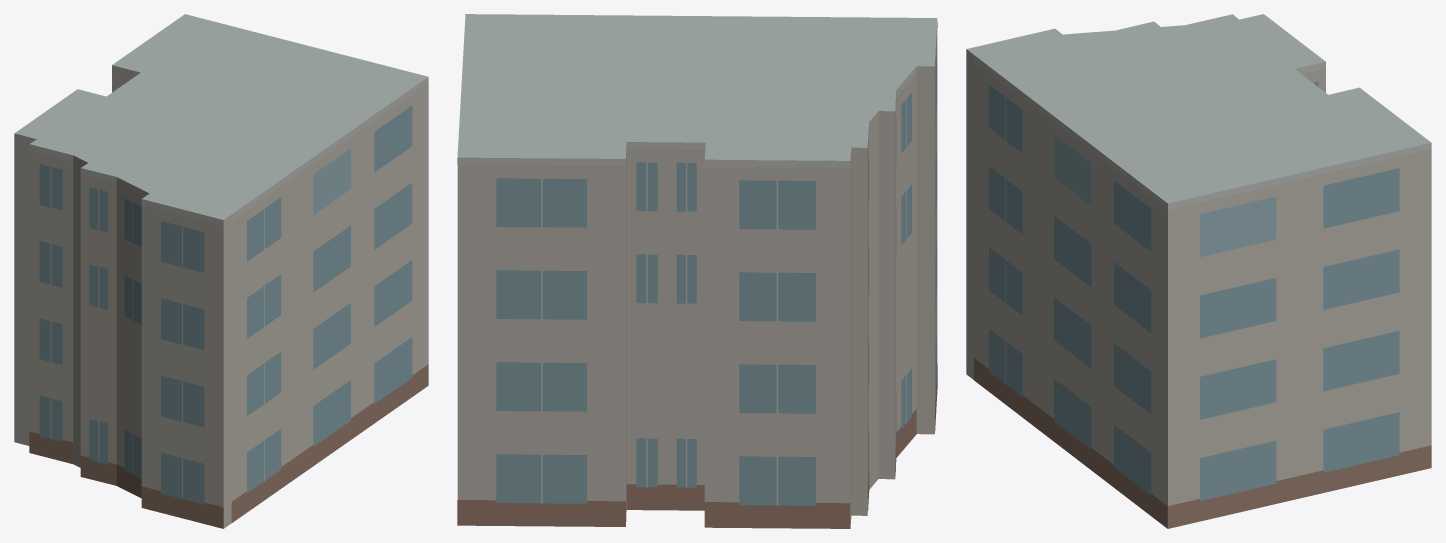
File: survey-upis-32745863.glb
The picture shows the model from 3 angles, left to right: view 1: azimuth 30°, elevation 25°; view 2: azimuth 150°, elevation 25°; view 3: azimuth 270°, elevation 25°; orthographic projection. The views are drawn at different scales.
Parts seen in each view (by area): view 1: survey-upis-32745863.tmp; view 2: survey-upis-32745863.tmp; view 3: survey-upis-32745863.tmp.
Part boxes in pixels (<box>): survey-upis-32745863.tmp: <box>14,14,428,528</box>; survey-upis-32745863.tmp: <box>457,14,937,528</box>; survey-upis-32745863.tmp: <box>966,14,1431,528</box>.
Size of the model in its own units: 15.81 by 12.65 by 16.4.
